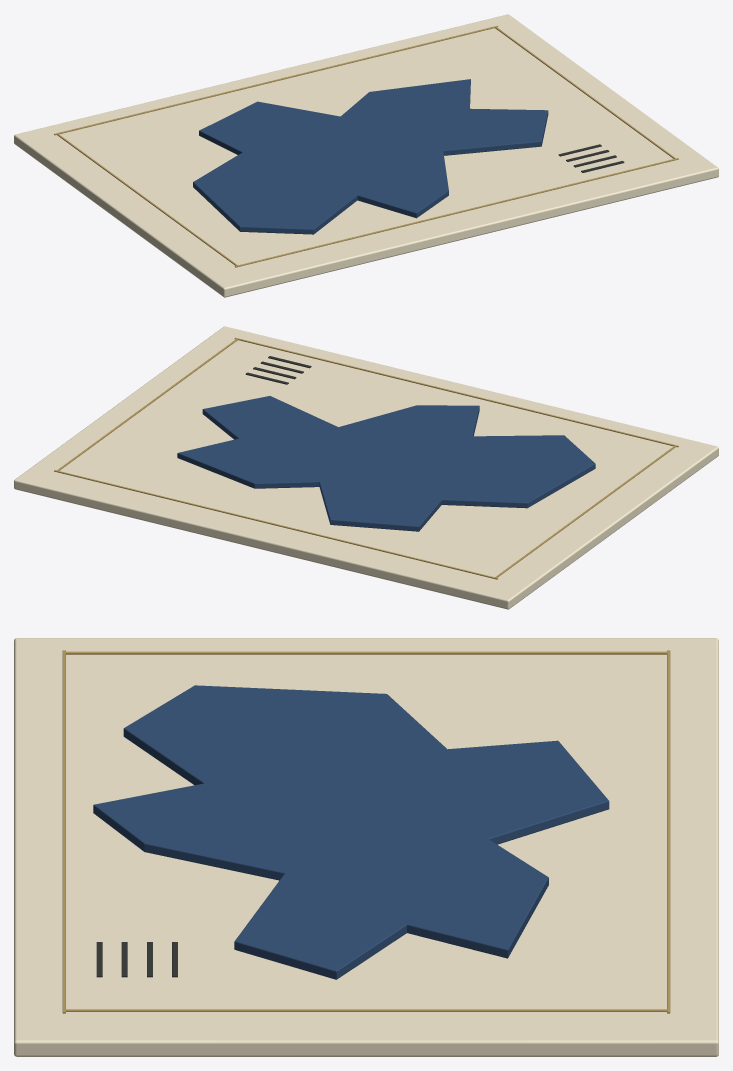
File: fantasy-cartographers-map-printing-guild-printed-fanta-34870916__32258.glb
3 views of the same model, one above another, from view 1: azimuth 30°, elevation 25°; view 2: azimuth 150°, elevation 25°; view 3: azimuth 270°, elevation 25° (orthographic). The views are drawn at different scales.
Visible parts, largest first — view 1: printed-fantasy-coast-sheet; view 2: printed-fantasy-coast-sheet; view 3: printed-fantasy-coast-sheet.
Boxes of the visible parts, x1,y1,x2,y2 form: printed-fantasy-coast-sheet: (14,14,718,297); printed-fantasy-coast-sheet: (14,326,718,609); printed-fantasy-coast-sheet: (14,638,718,1056).
Size of the model in its own units: 0.95 by 0.028 by 0.6999.
